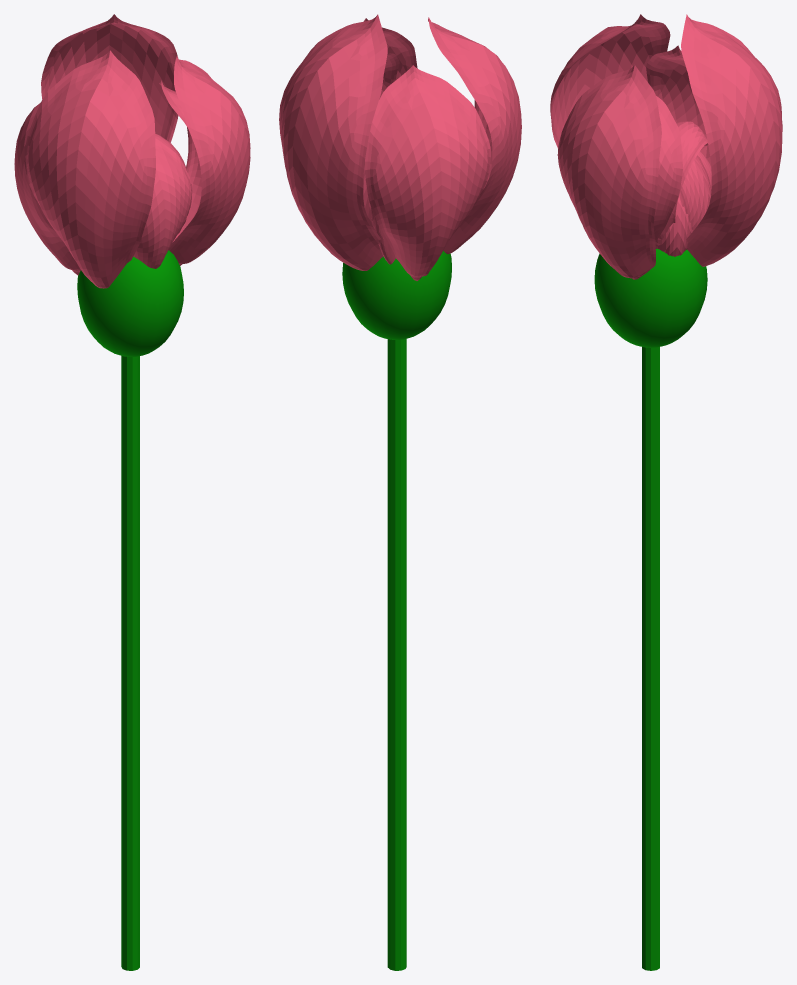
The model's file is Lotus014.fbx.
3 renders of one model, left to right at view 1: azimuth 30°, elevation 25°; view 2: azimuth 150°, elevation 25°; view 3: azimuth 270°, elevation 25°, orthographic. The views are drawn at different scales.
Visible parts, largest first — view 1: nurbsToPoly11, pCylinder1, nurbsToPoly24, pSphere4, nurbsToPoly10, nurbsToPoly8, nurbsToPoly12, nurbsToPoly9; view 2: nurbsToPoly10, nurbsToPoly12, pCylinder1, nurbsToPoly11, pSphere4, nurbsToPoly24; view 3: nurbsToPoly10, nurbsToPoly24, pCylinder1, pSphere4, nurbsToPoly11, nurbsToPoly12, nurbsToPoly9, nurbsToPoly17, nurbsToPoly22, nurbsToPoly15.
Part boxes in pixels (<box>): nurbsToPoly11: <box>25,50,155,288</box>; pCylinder1: <box>121,356,139,970</box>; nurbsToPoly24: <box>168,56,250,265</box>; pSphere4: <box>77,250,183,356</box>; nurbsToPoly10: <box>41,14,178,142</box>; nurbsToPoly8: <box>133,139,192,268</box>; nurbsToPoly12: <box>14,102,80,275</box>; nurbsToPoly9: <box>159,80,201,242</box>; nurbsToPoly10: <box>279,14,387,270</box>; nurbsToPoly12: <box>364,65,490,280</box>; pCylinder1: <box>387,339,406,970</box>; nurbsToPoly11: <box>428,17,521,254</box>; pSphere4: <box>342,251,451,339</box>; nurbsToPoly24: <box>364,18,417,79</box>; nurbsToPoly10: <box>681,14,782,266</box>; nurbsToPoly24: <box>557,65,661,279</box>; pCylinder1: <box>642,347,659,970</box>; pSphere4: <box>594,248,707,347</box>; nurbsToPoly11: <box>550,14,670,148</box>; nurbsToPoly12: <box>646,45,710,165</box>; nurbsToPoly9: <box>653,96,682,241</box>; nurbsToPoly17: <box>679,156,711,230</box>; nurbsToPoly22: <box>658,121,708,239</box>; nurbsToPoly15: <box>656,196,692,256</box>.
Size of the model in its own units: 12.87 by 55.81 by 12.32.
